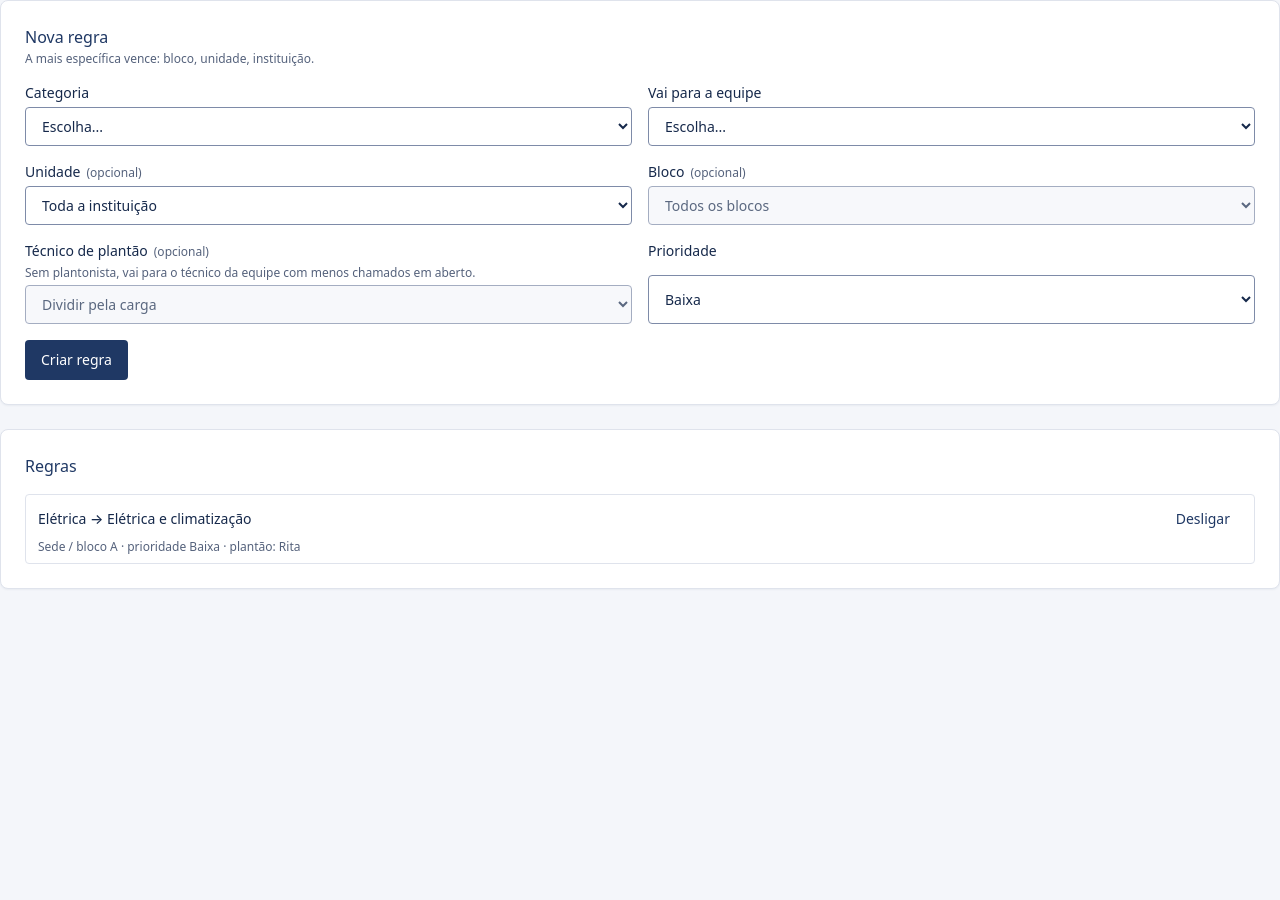
it: Lista de regras › desligar manda só o "ativo" para a regra certa
Click the button with aria-label "Desligar a regra de Elétrica (Sede / bloco A)". click: (1203, 519)
box: [1164,503,1242,535]
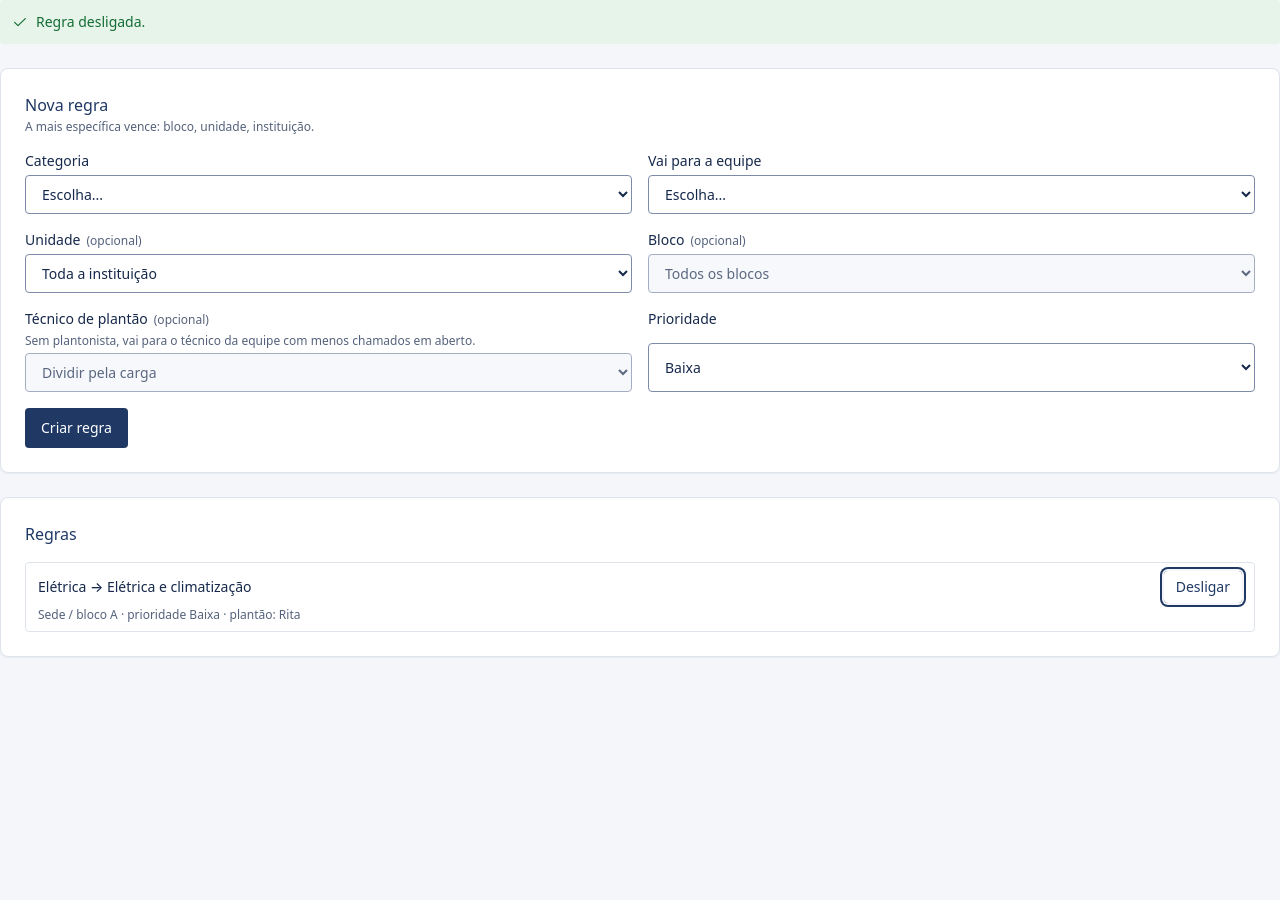
Expected: the text "Regra desligada." is shown, [36,12,145,31]
